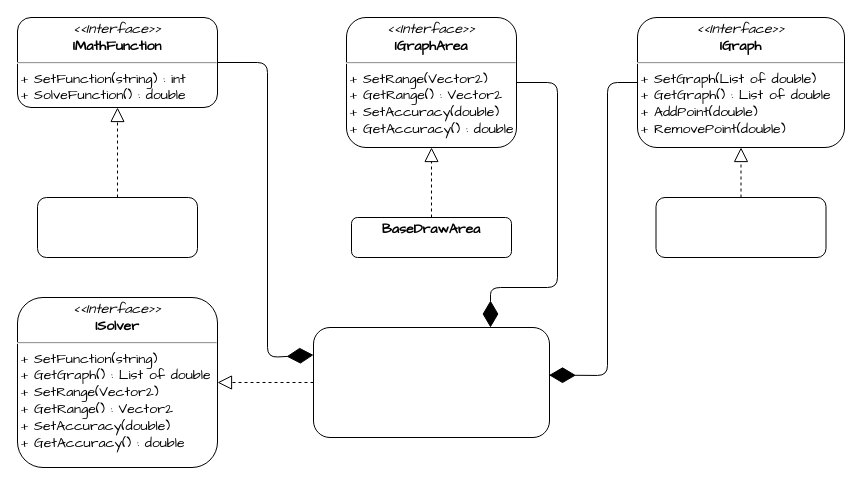
This 862x485 diagram has some shape labels left out. Each missing label, with the centre of its shape:
BaseGraph # Points : List of double: (740,227)
BaseMathFunction # Function : string: (117,227)
Solver - MathFunction : IMathFunction - DrawArea : IDrawArea - Graph : IGraph: (431,382)
